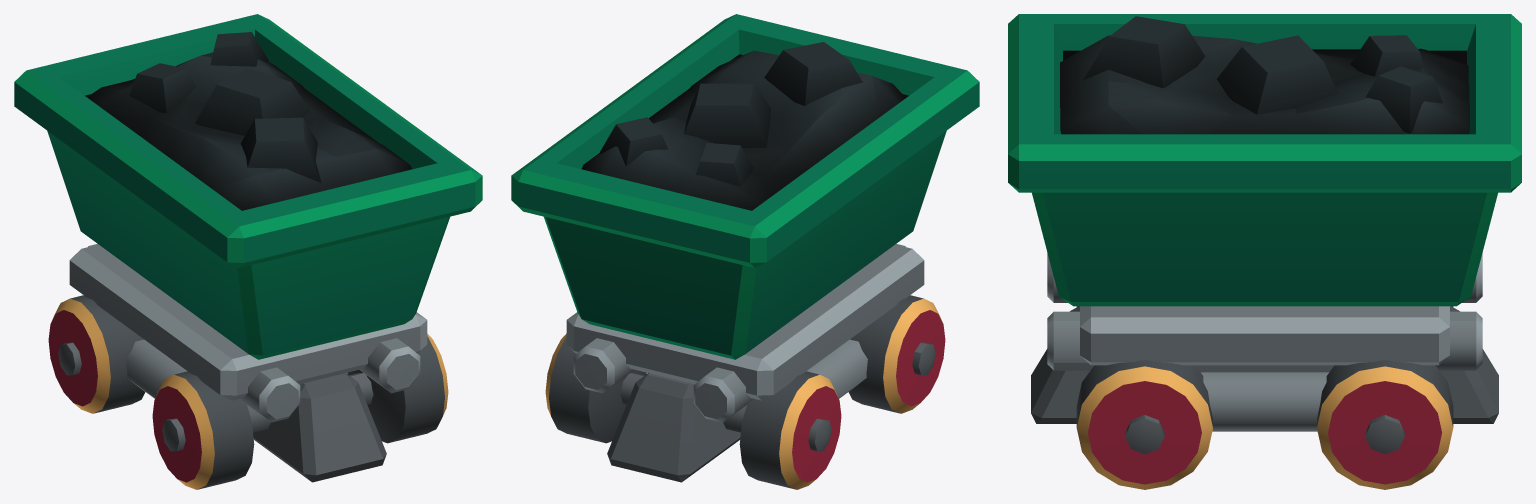
File: train_tender_coal.obj
The picture shows the model from 3 angles, left to right: view 1: azimuth 30°, elevation 25°; view 2: azimuth 150°, elevation 25°; view 3: azimuth 270°, elevation 25°; orthographic projection. The views are drawn at different scales.
Visible parts, largest first — view 1: train_tender_coal; view 2: train_tender_coal; view 3: train_tender_coal.
Part boxes in pixels (x1,y1,x2,y2): train_tender_coal: (14, 14, 482, 489); train_tender_coal: (511, 14, 979, 489); train_tender_coal: (1008, 14, 1521, 489).
Bounding box in the file's own units: 0.4459 × 0.5315 × 0.6421.
1 material, 1 textured.
